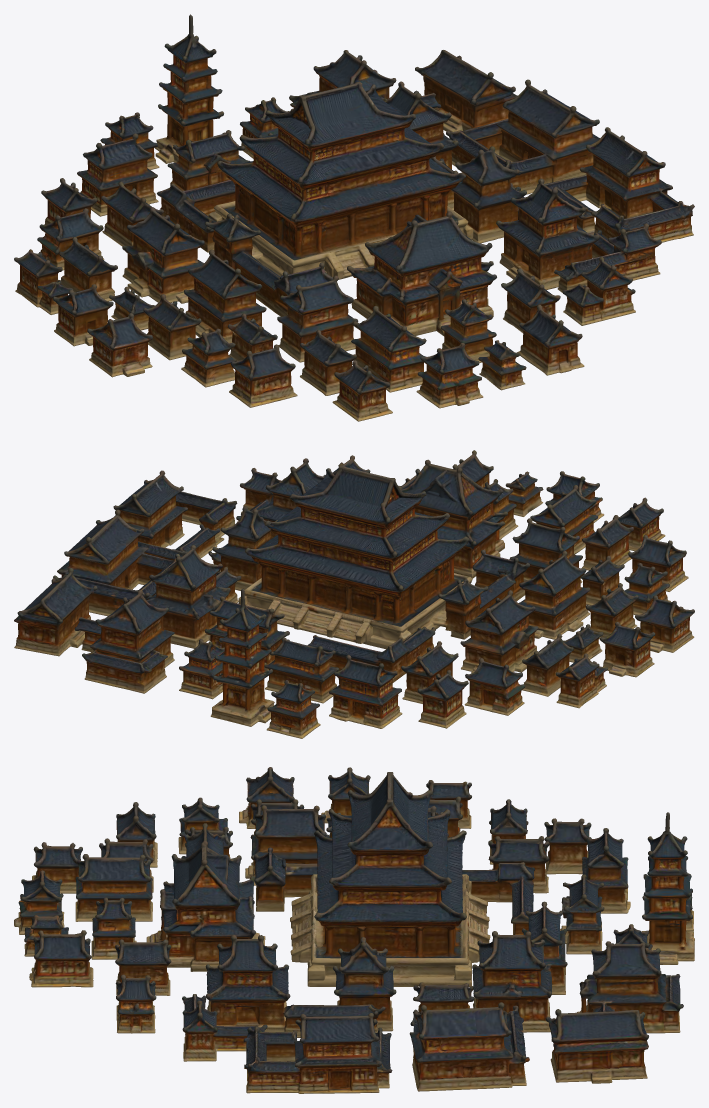
Rendered from Medieval City (East Asian).fbx.
The picture shows the model from 3 angles, top to bottom: view 1: azimuth 30°, elevation 25°; view 2: azimuth 150°, elevation 25°; view 3: azimuth 270°, elevation 25°; orthographic projection. The views are drawn at different scales.
Parts seen in each view (by area): view 1: tripo_node_9bc01aef; view 2: tripo_node_9bc01aef; view 3: tripo_node_9bc01aef.
Boxes of the visible parts, bbox=[...] form: tripo_node_9bc01aef: bbox=[14, 14, 694, 421]; tripo_node_9bc01aef: bbox=[14, 450, 694, 738]; tripo_node_9bc01aef: bbox=[14, 767, 694, 1093].
Size of the model in its own units: 0.9959 by 0.2675 by 1.
